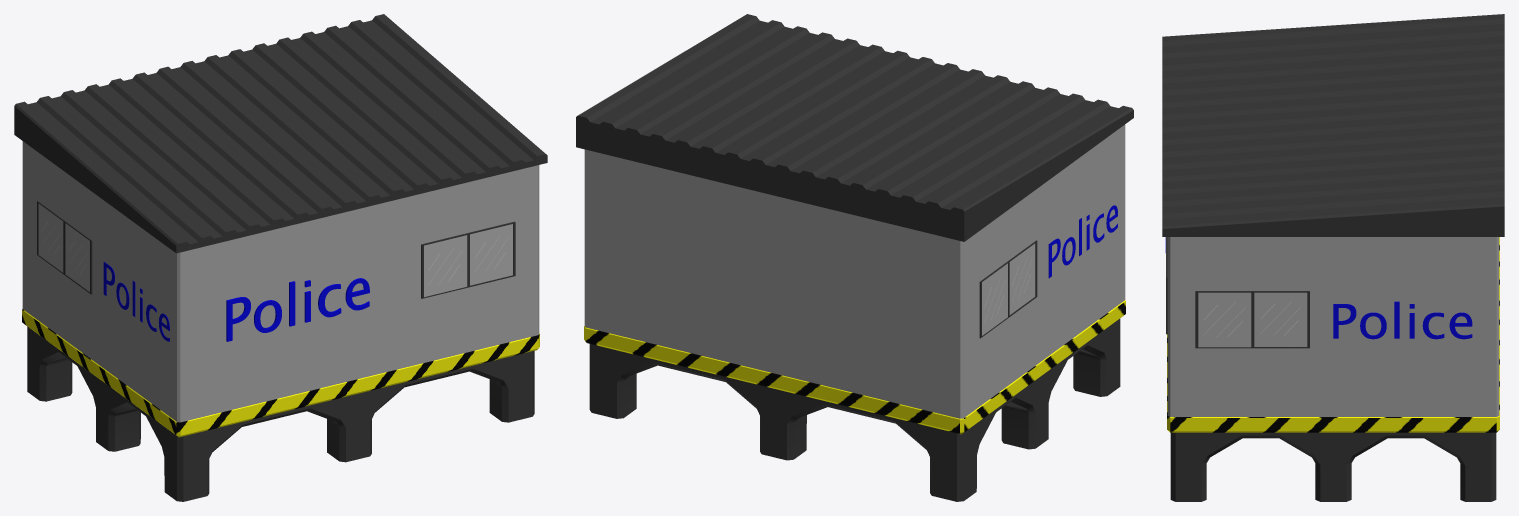
File: Police Cabin.fbx
3 views of the same model, side by side, from view 1: azimuth 30°, elevation 25°; view 2: azimuth 150°, elevation 25°; view 3: azimuth 270°, elevation 25° (orthographic). The views are drawn at different scales.
Visible parts, largest first — view 1: pCube1, pCube2, pCube7, pCube4, pCube3, pCube6, typeMesh1, typeMesh3; view 2: pCube1, pCube2, pCube7, pCube4, pCube6, typeMesh3; view 3: pCube2, pCube1, pCube7, pCube5, pCube4, typeMesh2.
Part boxes in pixels (x1,y1,x2,y2): pCube1: [22, 141, 539, 422]; pCube2: [14, 14, 547, 253]; pCube7: [27, 326, 534, 501]; pCube4: [22, 309, 539, 437]; pCube3: [421, 221, 515, 298]; pCube6: [37, 201, 92, 294]; typeMesh1: [226, 278, 369, 341]; typeMesh3: [103, 262, 169, 341]; pCube1: [584, 124, 1125, 418]; pCube2: [576, 14, 1133, 241]; pCube7: [589, 318, 1120, 501]; pCube4: [584, 300, 1125, 434]; pCube6: [979, 240, 1037, 338]; typeMesh3: [1048, 205, 1117, 278]; pCube2: [1162, 14, 1504, 236]; pCube1: [1167, 237, 1499, 416]; pCube7: [1170, 432, 1496, 501]; pCube5: [1195, 291, 1309, 348]; pCube4: [1167, 237, 1499, 432]; typeMesh2: [1333, 301, 1472, 339].
Bounding box in the file's own units: 4.1 × 3 × 3.1.
Materials: 5 (2 with a texture image).
